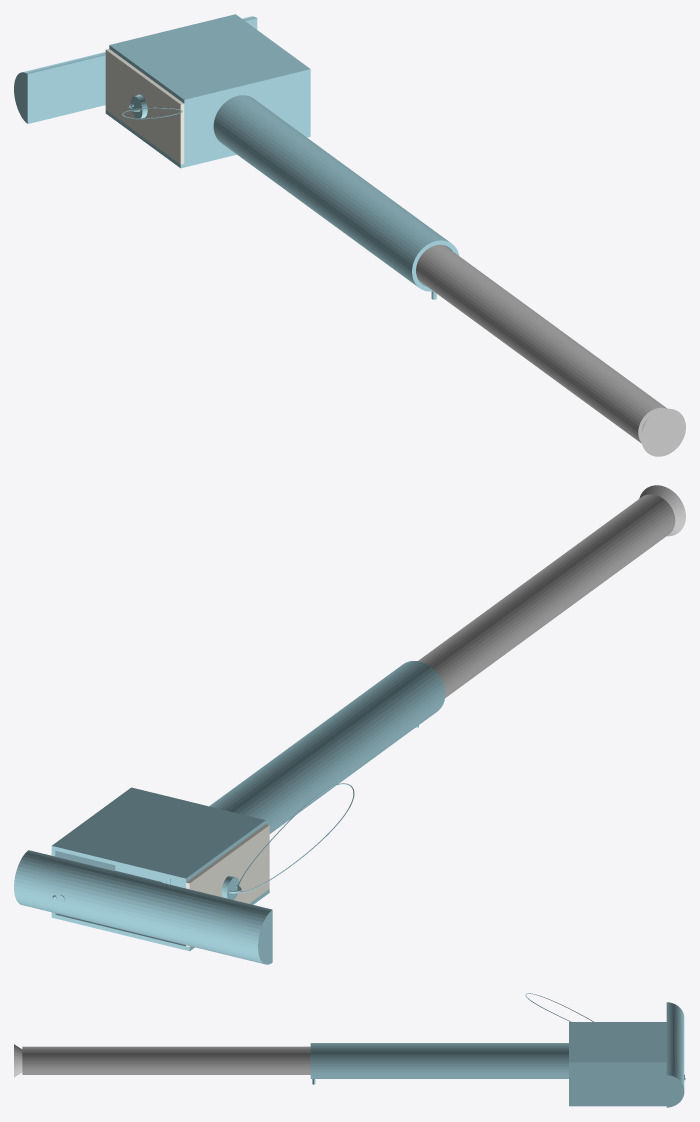
The model's file is final cad v23.gltf.
3 renders of one model, top to bottom at view 1: azimuth 30°, elevation 25°; view 2: azimuth 150°, elevation 25°; view 3: azimuth 270°, elevation 25°, orthographic. The views are drawn at different scales.
Parts seen in each view (by area): view 1: Node1; view 2: Node1; view 3: Node1.
Boxes of the visible parts, box(x1,y1,x2,y2) form: Node1: box(14, 14, 685, 456); Node1: box(14, 485, 685, 964); Node1: box(14, 993, 685, 1107).
Bounding box in the file's own units: 203 × 75.39 × 791.
